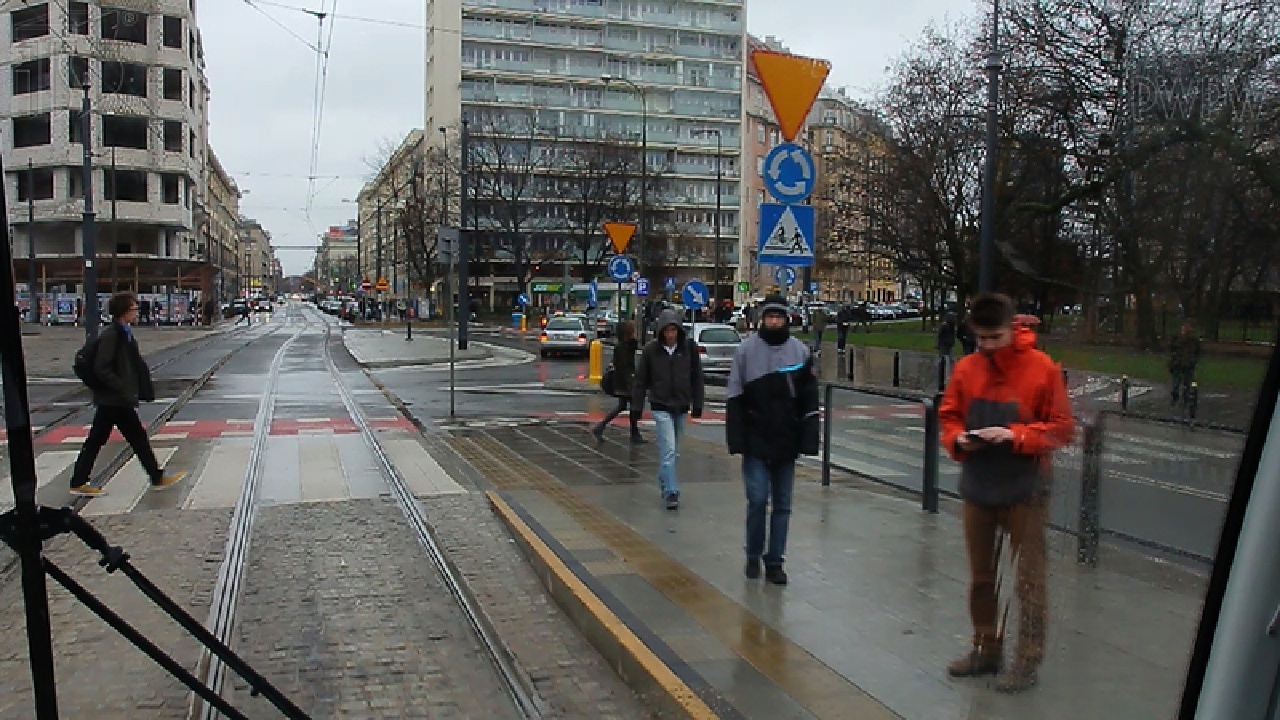A7: (749, 47, 834, 142), (606, 222, 636, 252)
C12: (762, 145, 816, 203), (608, 255, 632, 282)
C9: (682, 280, 709, 308)
D6b: (759, 203, 815, 265)
